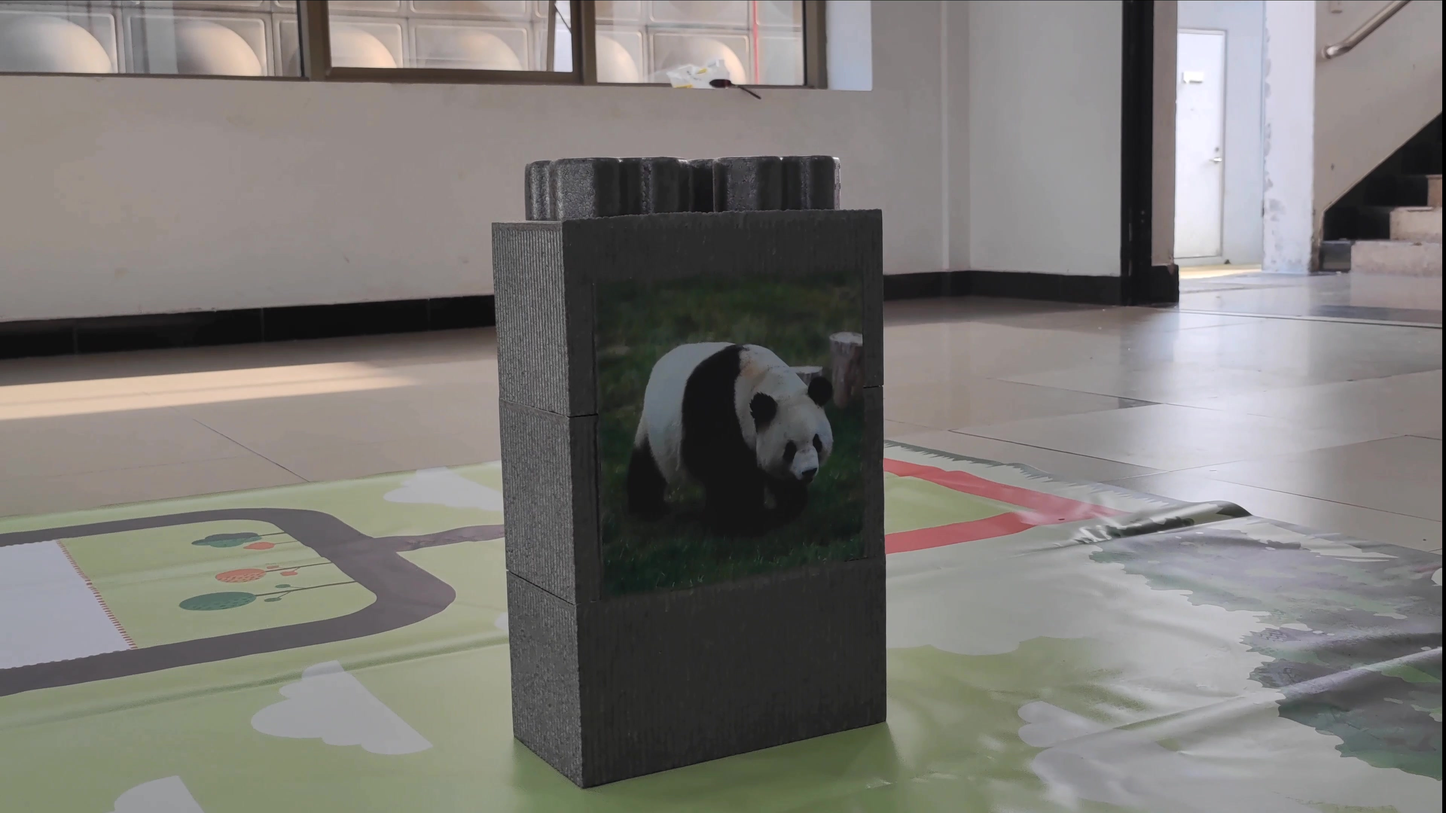panda: (591, 301, 874, 548)
